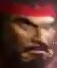ryu: (1, 0, 56, 67)
